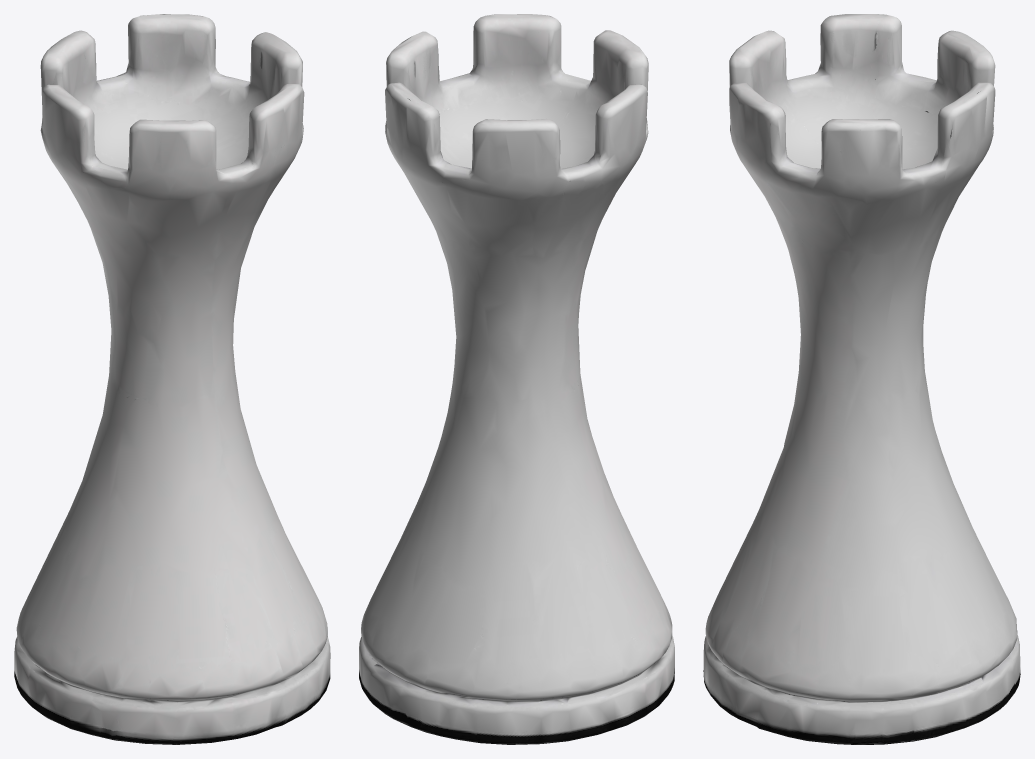
Rendered from rook-white.glb.
3 views of the same model, side by side, from view 1: azimuth 30°, elevation 25°; view 2: azimuth 150°, elevation 25°; view 3: azimuth 270°, elevation 25° (orthographic).
Bounding box in the file's own units: 0.5161 × 1.1 × 0.5161.
1 material, 1 textured.
